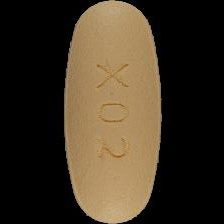63187-360: (0, 0, 224, 224)
